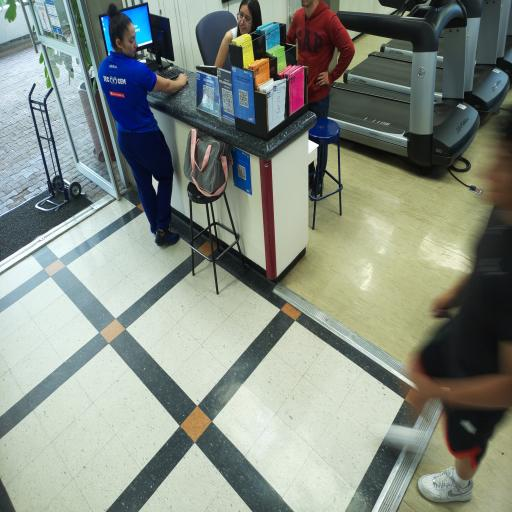person: (412, 150, 511, 502), (99, 4, 187, 245), (287, 0, 354, 118), (215, 0, 262, 67)
